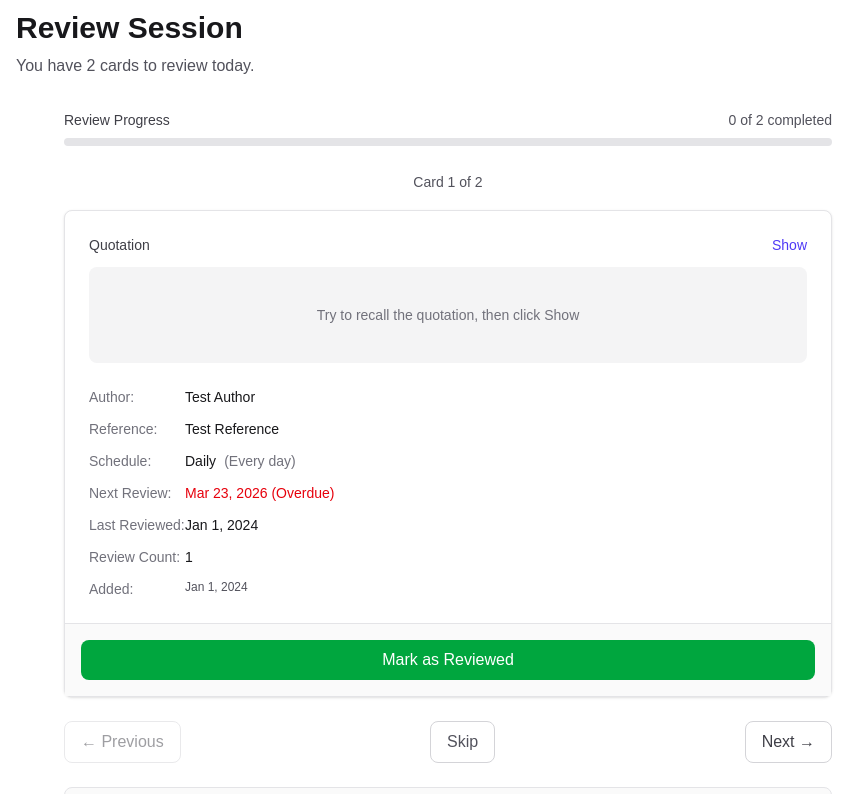
Test: Review Page › Session Complete State › should display correct reviewed count with plural
Expected: the button "Skip" is shown, [430,721,495,763]
Note: Navigate to last card and skip to complete
Click the button "Next →" at (788, 742), box [745,721,832,763]
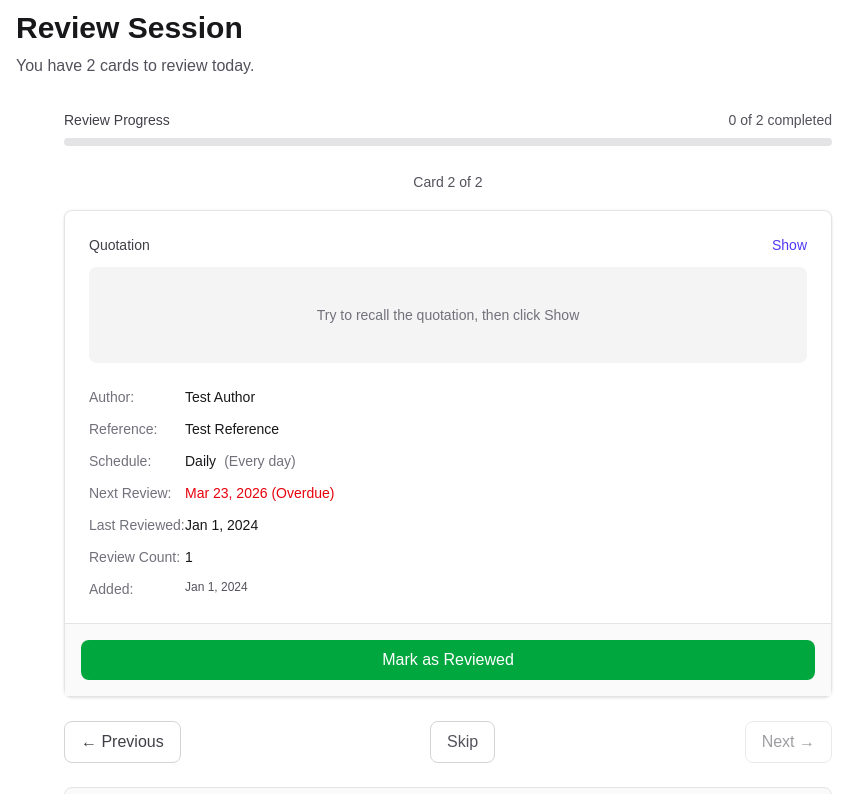
Click the button "Skip" at (463, 742), box [430,721,495,763]
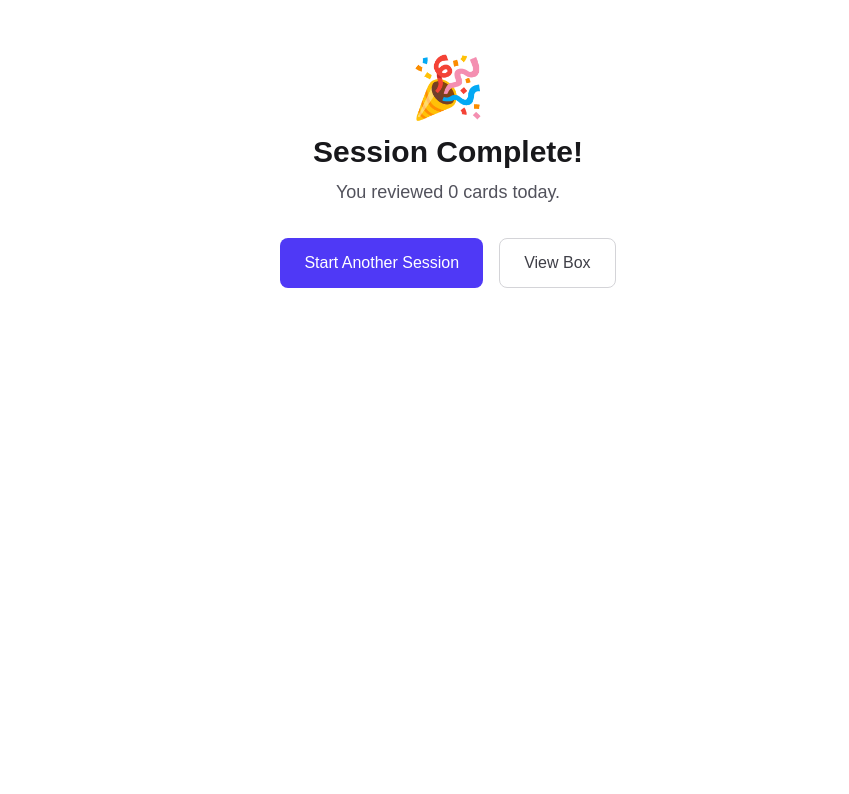
Expected: the heading "Session Complete!" is shown, [313,135,583,168]
